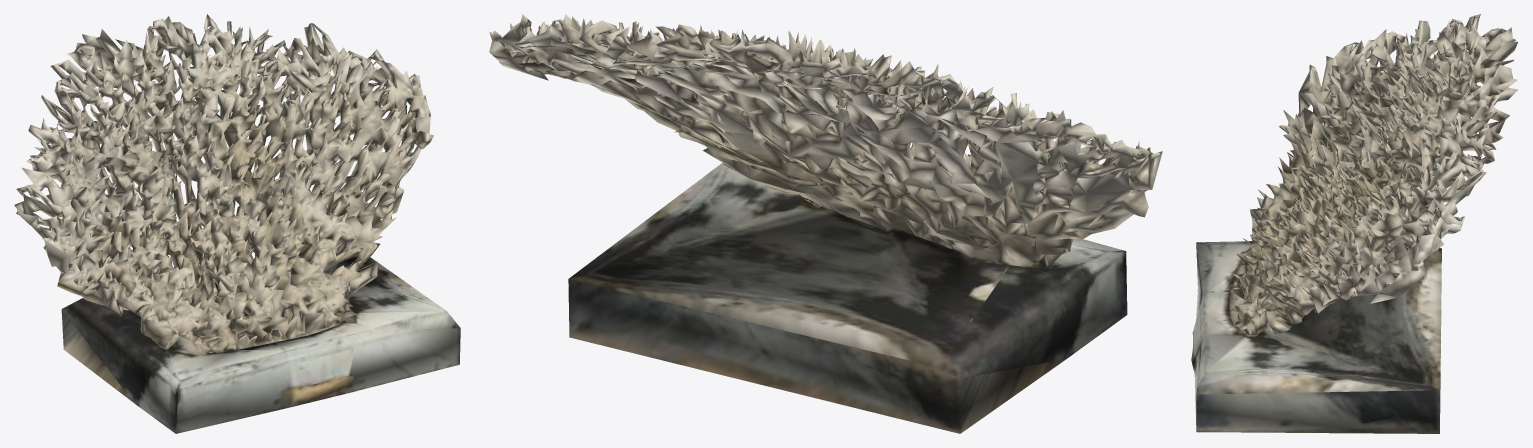
File: table.glb
The picture shows the model from 3 angles, left to right: view 1: azimuth 30°, elevation 25°; view 2: azimuth 150°, elevation 25°; view 3: azimuth 270°, elevation 25°; orthographic projection. The views are drawn at different scales.
Bounding box in the file's own units: 0.4314 × 0.2629 × 0.267.
1 material, 1 textured.
